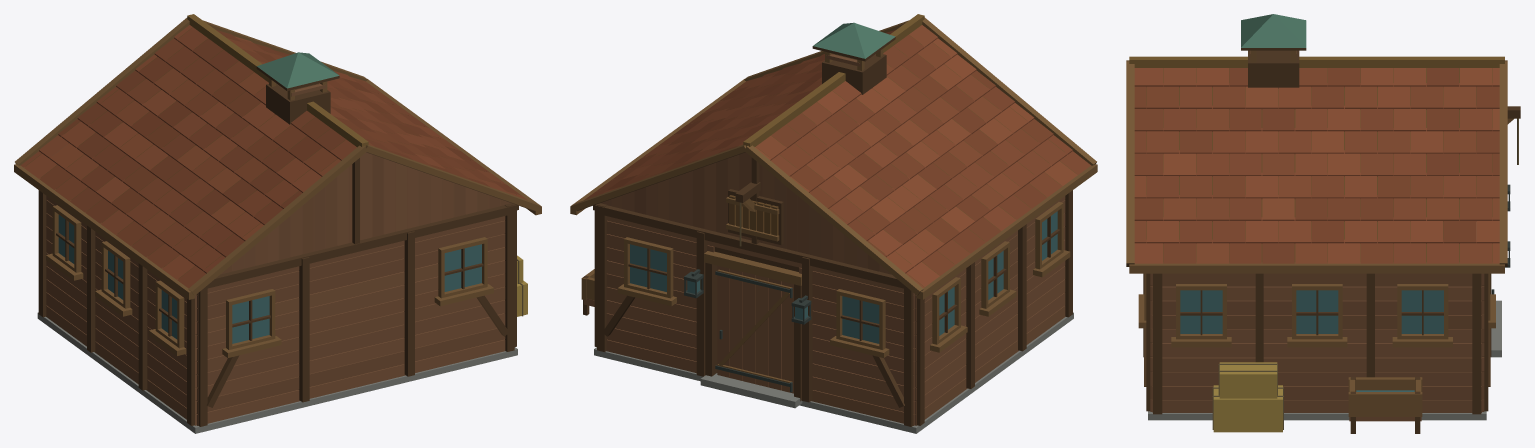
File: LivestockFarm.glb
3 views of the same model, side by side, from view 1: azimuth 30°, elevation 25°; view 2: azimuth 150°, elevation 25°; view 3: azimuth 270°, elevation 25° (orthographic). The views are drawn at different scales.
Visible parts, largest first — view 1: LivestockFarm, LivestockFarmGlass; view 2: LivestockFarm, LivestockFarmDoor, LivestockFarmGlass; view 3: LivestockFarm, LivestockFarmGlass.
Part boxes in pixels (<box>): LivestockFarm: <box>14,14,541,433</box>; LivestockFarmGlass: <box>58,215,481,343</box>; LivestockFarm: <box>570,14,1097,433</box>; LivestockFarmDoor: <box>715,265,793,393</box>; LivestockFarmGlass: <box>630,211,1057,343</box>; LivestockFarm: <box>1126,14,1520,433</box>; LivestockFarmGlass: <box>1180,290,1443,333</box>.
Bounding box in the file's own units: 9.16 × 6.9 × 7.66.
